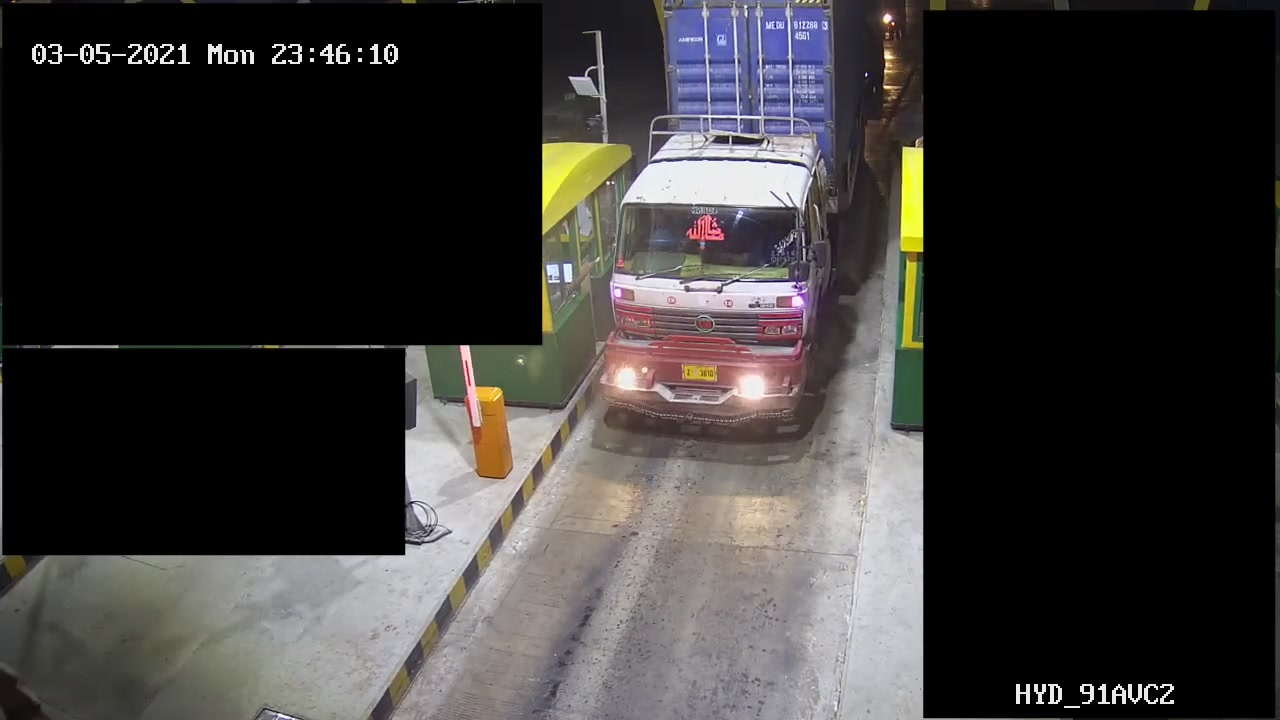F6: (596, 1, 873, 447)
